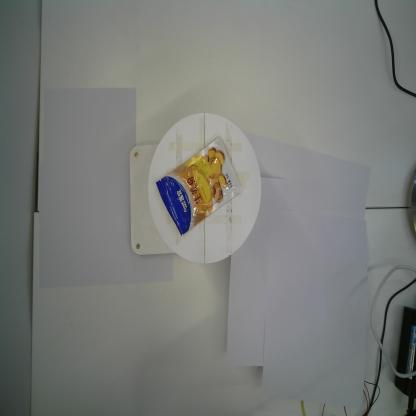Seasoner: (155, 136, 243, 237)
